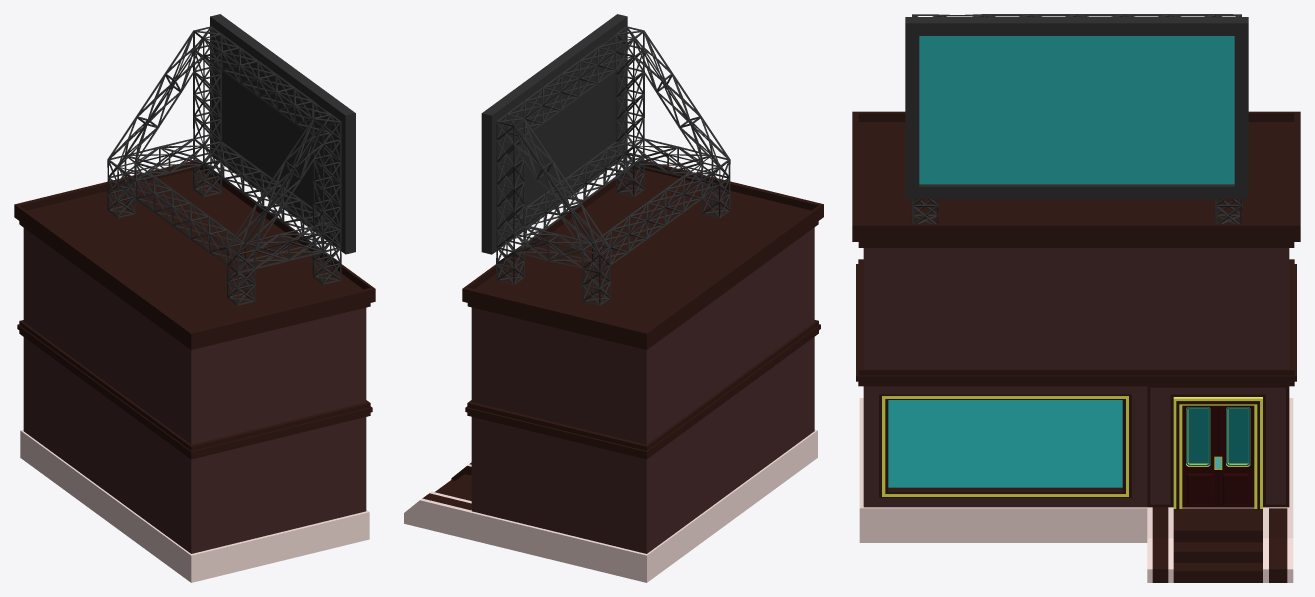
File: PropBuilding_Cafe.fbx
3 renders of one model, left to right at view 1: azimuth 30°, elevation 25°; view 2: azimuth 150°, elevation 25°; view 3: azimuth 270°, elevation 25°, orthographic. The views are drawn at different scales.
Parts seen in each view (by area): view 1: Cafe_Body, Billboard_Frame, Billboard; view 2: Cafe_Body, Billboard_Frame, Billboard; view 3: Cafe_Body, Billboard, Cafe_Door, Billboard_Frame.
Part boxes in pixels (x1,y1,x2,y2): Cafe_Body: [14, 160, 375, 582]; Billboard_Frame: [107, 26, 341, 305]; Billboard: [210, 14, 355, 254]; Cafe_Body: [404, 160, 823, 582]; Billboard_Frame: [496, 26, 730, 305]; Billboard: [481, 14, 627, 254]; Cafe_Body: [852, 111, 1300, 582]; Billboard: [905, 17, 1248, 199]; Cafe_Door: [1182, 405, 1254, 507]; Billboard_Frame: [911, 14, 1242, 223].
Bounding box in the file's own units: 1434 × 2297 × 1787.
Materials: 4 (4 with a texture image).
